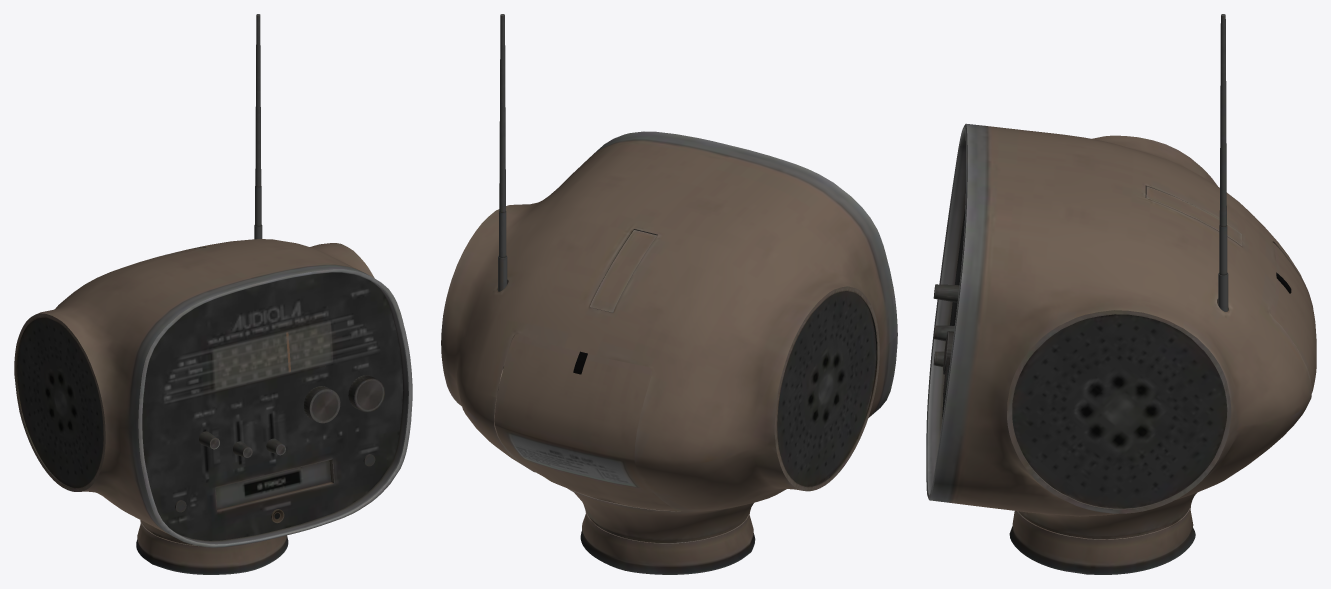
File: space-age-radio.glb
3 renders of one model, left to right at view 1: azimuth 30°, elevation 25°; view 2: azimuth 150°, elevation 25°; view 3: azimuth 270°, elevation 25°, orthographic. The views are drawn at different scales.
Visible parts, largest first — view 1: Object_0; view 2: Object_0; view 3: Object_0.
Boxes of the visible parts, x1=… form: Object_0: x1=14, y1=14, x2=412, y2=574; Object_0: x1=441, y1=14, x2=897, y2=574; Object_0: x1=926, y1=14, x2=1316, y2=574.
Size of the model in its own units: 0.1948 by 0.3 by 0.184.
Materials: 1 (1 with a texture image).
